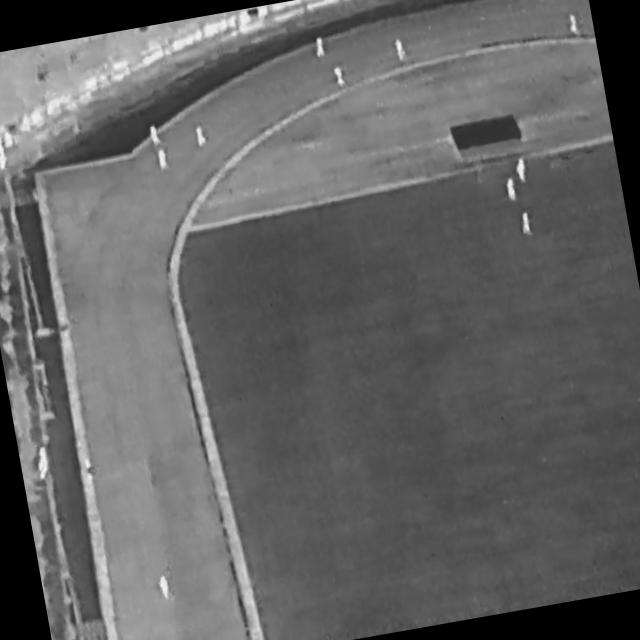person: (158, 573, 173, 602), (83, 457, 97, 487), (515, 158, 528, 185), (194, 123, 208, 147), (519, 210, 532, 235), (394, 36, 406, 62), (506, 176, 518, 202), (149, 123, 161, 147), (158, 148, 170, 172), (334, 66, 347, 88), (315, 36, 327, 58), (568, 12, 579, 34)
